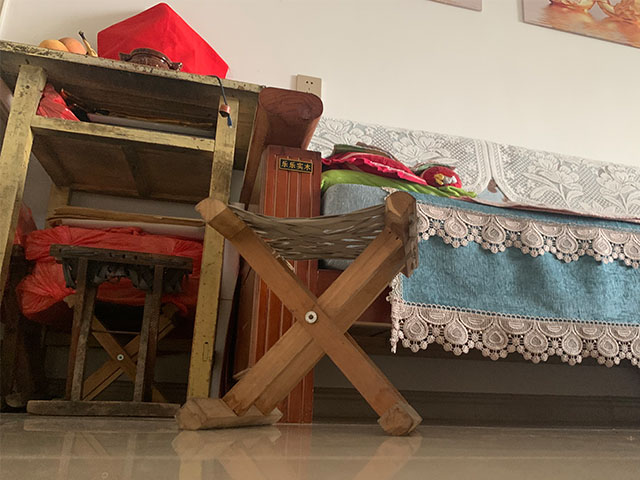sofa: (224, 87, 639, 425)
stool: (177, 190, 426, 437), (24, 242, 194, 420)
table: (1, 38, 268, 421)
